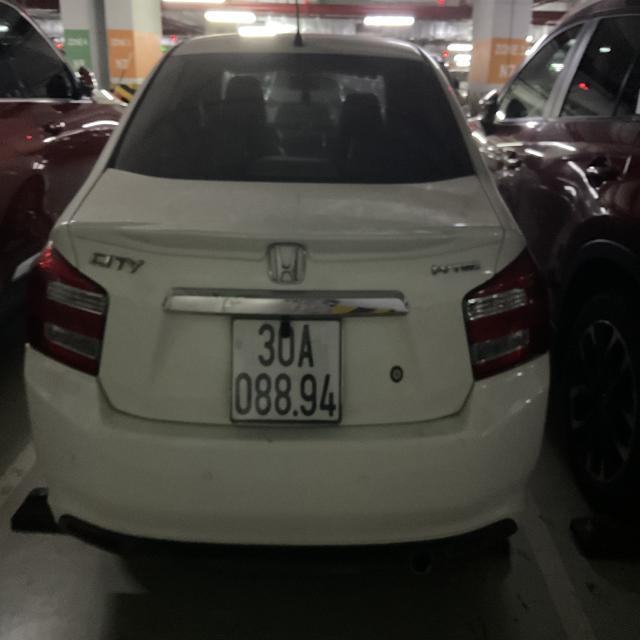license: (229, 316, 342, 424)
